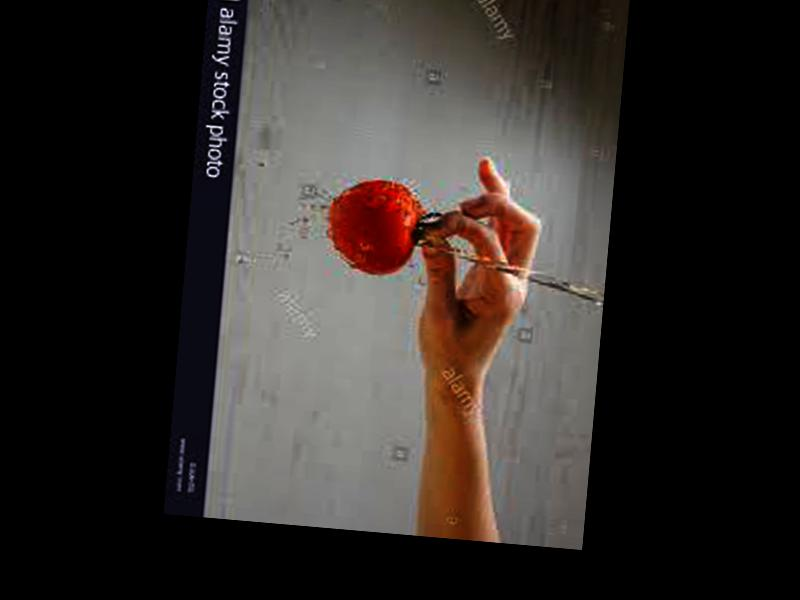Tomato: (322, 178, 422, 280)
